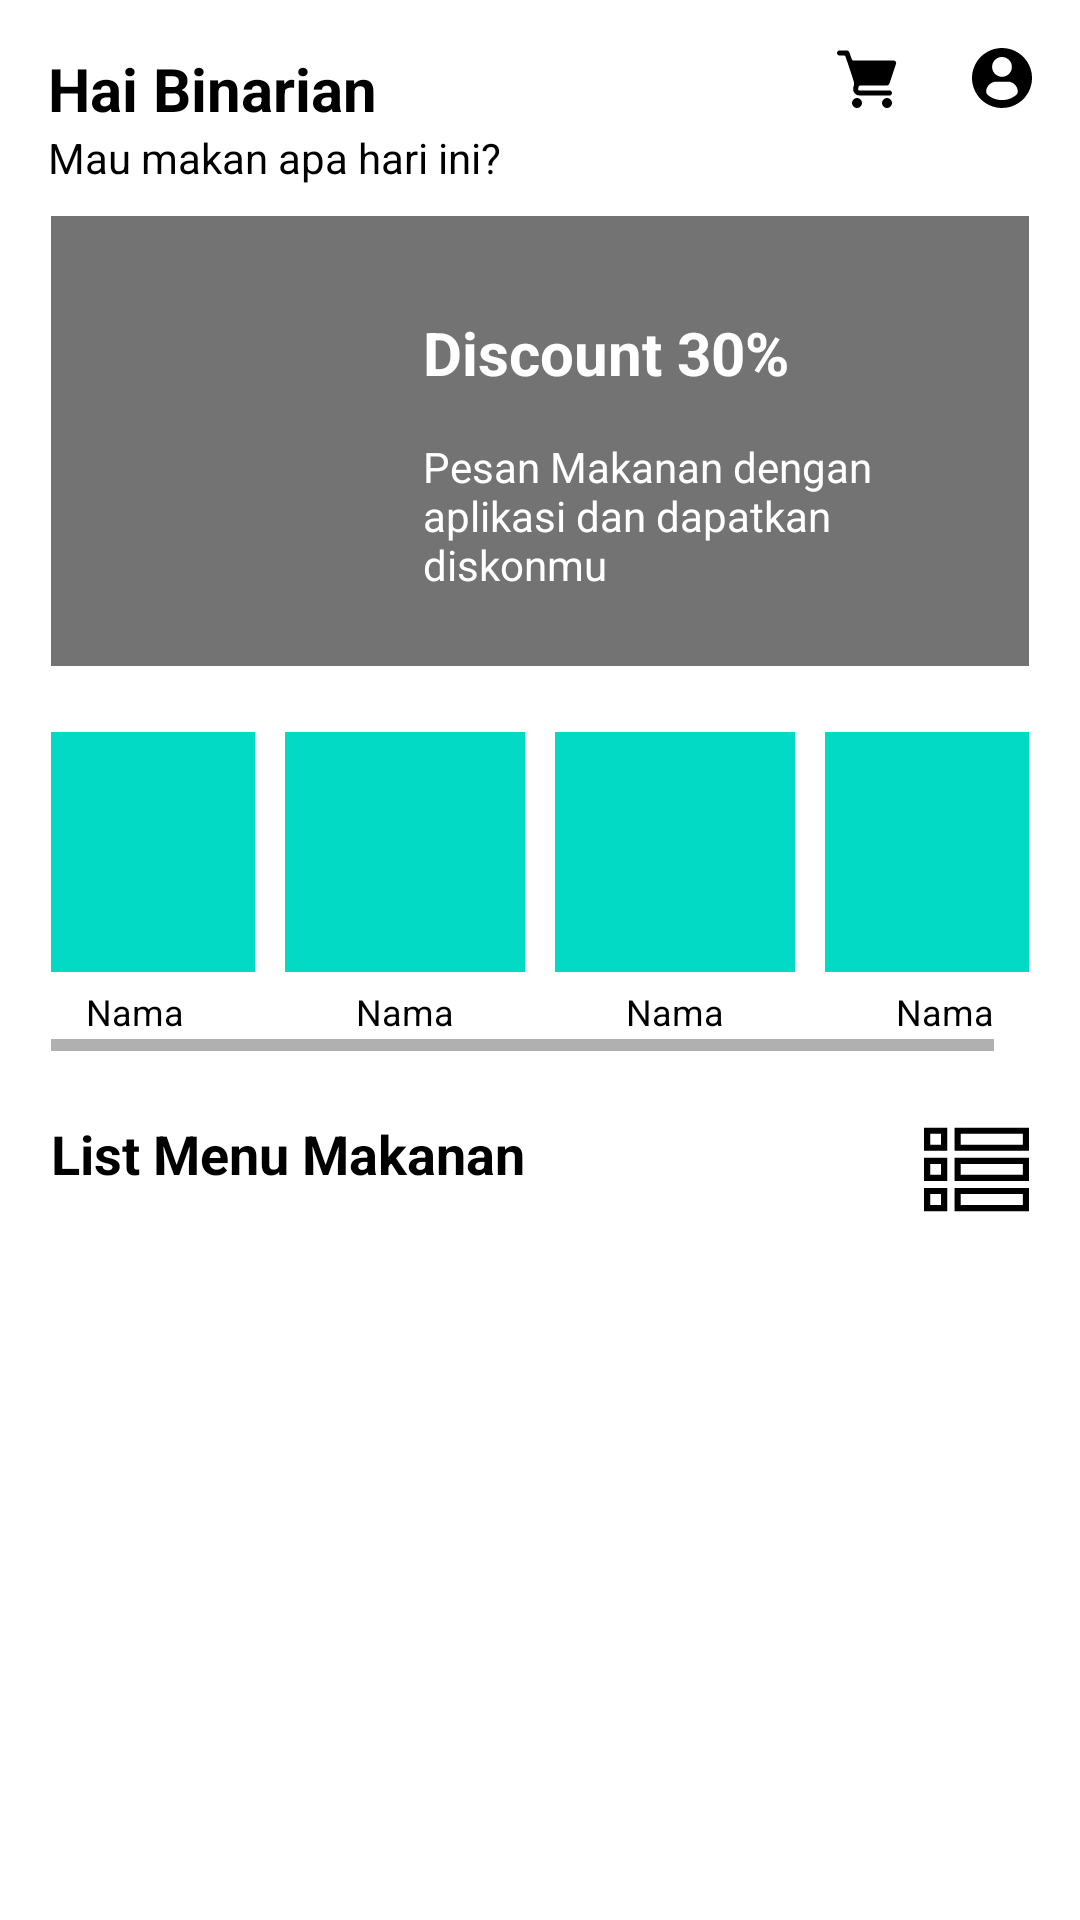

Icon bounding boxes for this 1080×1920 phone screenshot, format (x1, y1, x2, y2):
button for change list layout: (924, 1127, 1029, 1212)
Tombol Keranjang: (837, 50, 896, 108)
Tombol Profile: (972, 48, 1032, 108)
